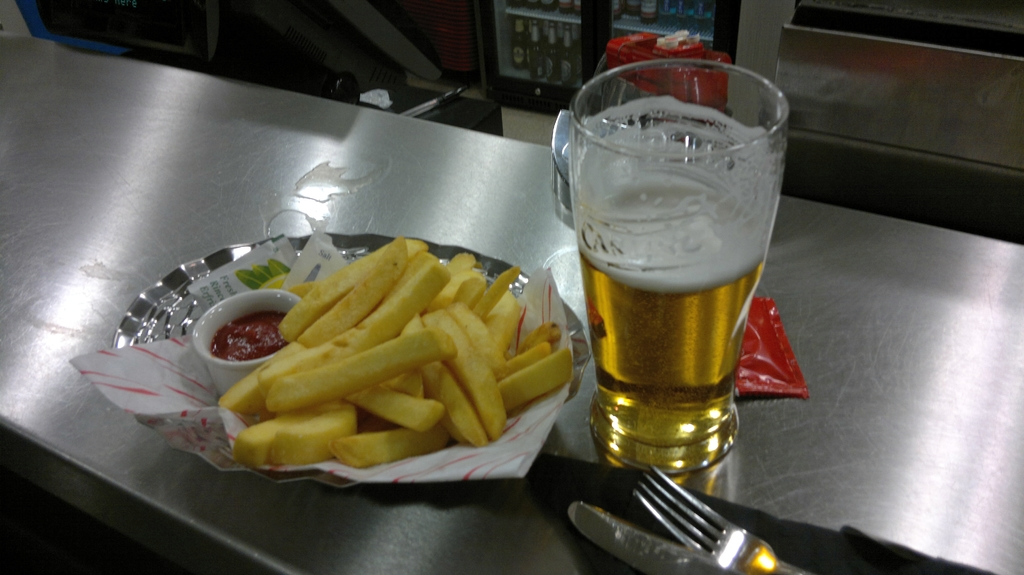French fries: (257, 255, 451, 395), (266, 323, 455, 413), (277, 232, 424, 335), (296, 238, 403, 349), (419, 306, 506, 440), (418, 357, 486, 457), (231, 399, 336, 463), (267, 398, 352, 465), (326, 423, 451, 468), (215, 339, 301, 402), (494, 344, 566, 413), (440, 304, 503, 380), (360, 381, 449, 431), (428, 244, 476, 314), (473, 266, 519, 320), (498, 338, 549, 374), (451, 271, 487, 310), (515, 321, 562, 350)
